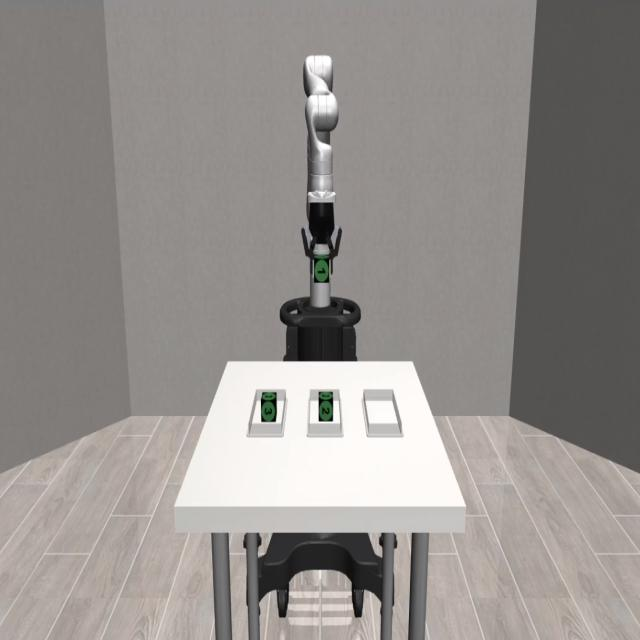cube1: (314, 254, 329, 284)
cube2: (318, 393, 334, 421)
cube3: (260, 391, 277, 421)
